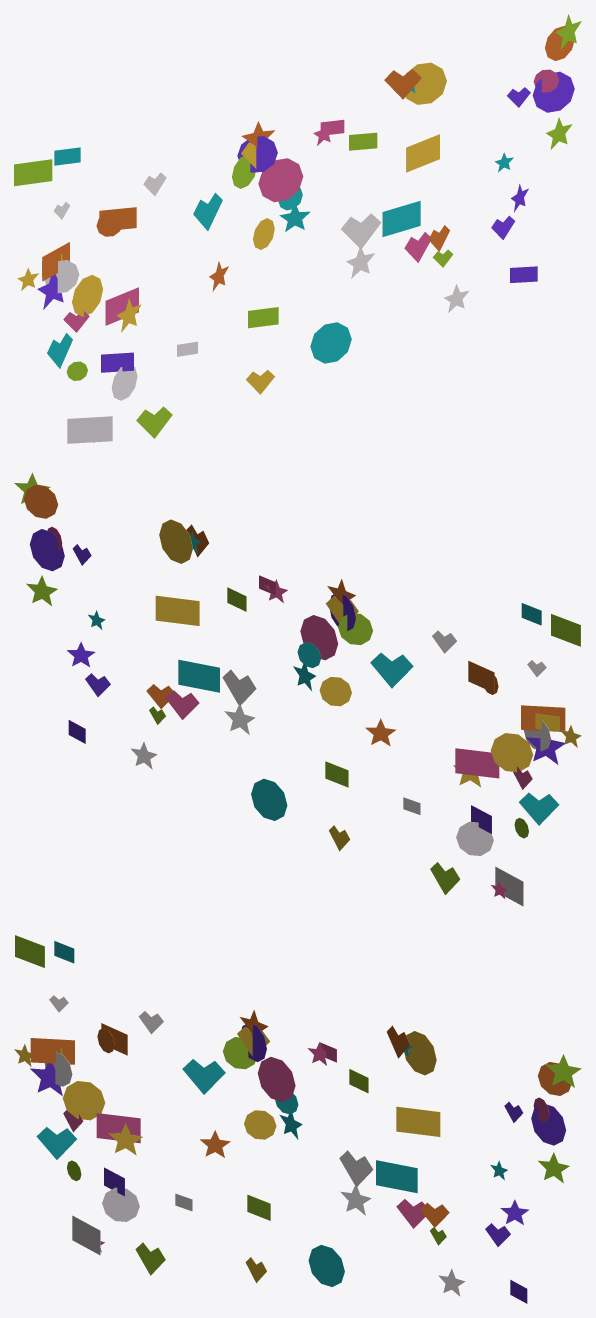
3 renders of one model, top to bottom at view 1: azimuth 30°, elevation 25°; view 2: azimuth 150°, elevation 25°; view 3: azimuth 330°, elevation 25°, orthographic.
Parts seen in each view (by area): view 1: sticker_40_shape, sticker_36_shape, sticker_38_shape, sticker_28_shape, sticker_20_shape, sticker_50_shape, sticker_56_shape, sticker_42_shape, sticker_30_shape, sticker_48_shape, sticker_59_shape, sticker_54_shape (+9 smaller); view 2: sticker_56_shape, sticker_42_shape, sticker_36_shape, sticker_40_shape, sticker_28_shape, sticker_50_shape, sticker_54_shape, sticker_20_shape, sticker_52_shape, sticker_4_shape, sticker_43_shape, sticker_44_shape (+8 smaller); view 3: sticker_56_shape, sticker_40_shape, sticker_42_shape, sticker_36_shape, sticker_50_shape, sticker_46_shape, sticker_28_shape, sticker_52_shape, sticker_20_shape, sticker_54_shape, sticker_43_shape, sticker_0_shape (+11 smaller).
Part boxes in pixels (left/top/right/bottom): sticker_40_shape: left=258, top=158, right=303, bottom=202; sticker_36_shape: left=310, top=322, right=351, bottom=363; sticker_38_shape: left=67, top=416, right=112, bottom=443; sticker_28_shape: left=406, top=62, right=446, bottom=104; sticker_20_shape: left=532, top=71, right=574, bottom=112; sticker_50_shape: left=382, top=201, right=420, bottom=236; sticker_56_shape: left=72, top=274, right=102, bottom=316; sticker_42_shape: left=406, top=134, right=439, bottom=172; sticker_30_shape: left=14, top=159, right=52, bottom=186; sticker_48_shape: left=237, top=136, right=277, bottom=172; sticker_59_shape: left=341, top=213, right=381, bottom=249; sticker_54_shape: left=105, top=287, right=138, bottom=325; sticker_56_shape: left=490, top=733, right=532, bottom=772; sticker_42_shape: left=155, top=595, right=199, bottom=625; sticker_36_shape: left=251, top=778, right=287, bottom=820; sticker_40_shape: left=300, top=615, right=338, bottom=660; sticker_28_shape: left=159, top=519, right=192, bottom=563; sticker_50_shape: left=178, top=659, right=219, bottom=692; sticker_54_shape: left=455, top=748, right=499, bottom=778; sticker_20_shape: left=29, top=529, right=64, bottom=571; sticker_52_shape: left=456, top=821, right=493, bottom=855; sticker_4_shape: left=24, top=484, right=58, bottom=518; sticker_43_shape: left=370, top=652, right=413, bottom=688; sticker_44_shape: left=338, top=613, right=372, bottom=644; sticker_56_shape: left=62, top=1081, right=105, bottom=1120; sticker_40_shape: left=257, top=1057, right=295, bottom=1101; sticker_42_shape: left=396, top=1106, right=440, bottom=1136; sticker_36_shape: left=308, top=1244, right=344, bottom=1286; sticker_50_shape: left=376, top=1160, right=417, bottom=1193; sticker_46_shape: left=30, top=1038, right=74, bottom=1064; sticker_28_shape: left=404, top=1031, right=436, bottom=1075; sticker_52_shape: left=102, top=1187, right=139, bottom=1221; sticker_20_shape: left=531, top=1104, right=566, bottom=1145; sticker_54_shape: left=96, top=1113, right=140, bottom=1143; sticker_43_shape: left=182, top=1059, right=225, bottom=1094; sticker_0_shape: left=244, top=1110, right=276, bottom=1139.
Size of the model in its own units: 3.26 by 1.77 by 0.0875.
